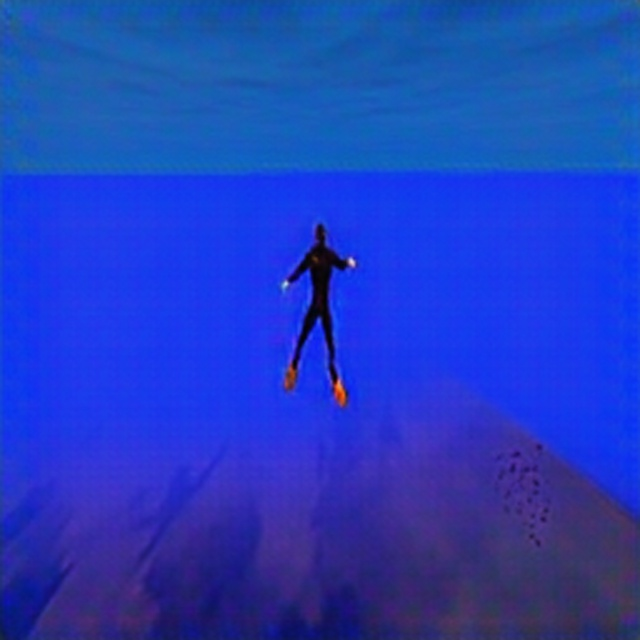diver: (278, 218, 358, 407)
